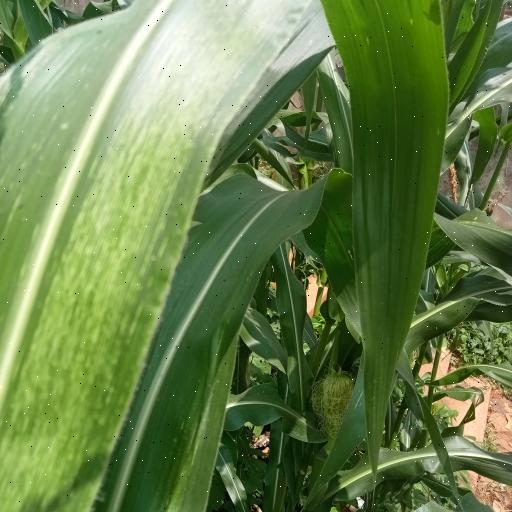Corn_Streak: (6, 3, 310, 509)
